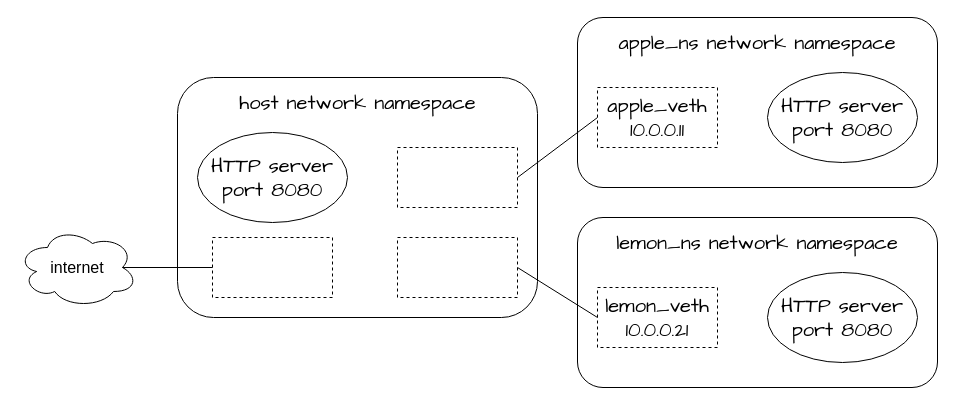
This 955x405 diagram has some shape labels left out. The shapes that lost their labels are listed below. From the top down, each one's centre as x and y in pixels, then its label:
At point 457,177: "host1_veth 10.0.0.10".
At point 272,267: "enp0s7 192.168.64.4".
At point 457,267: "host2_veth 10.0.0.20".
